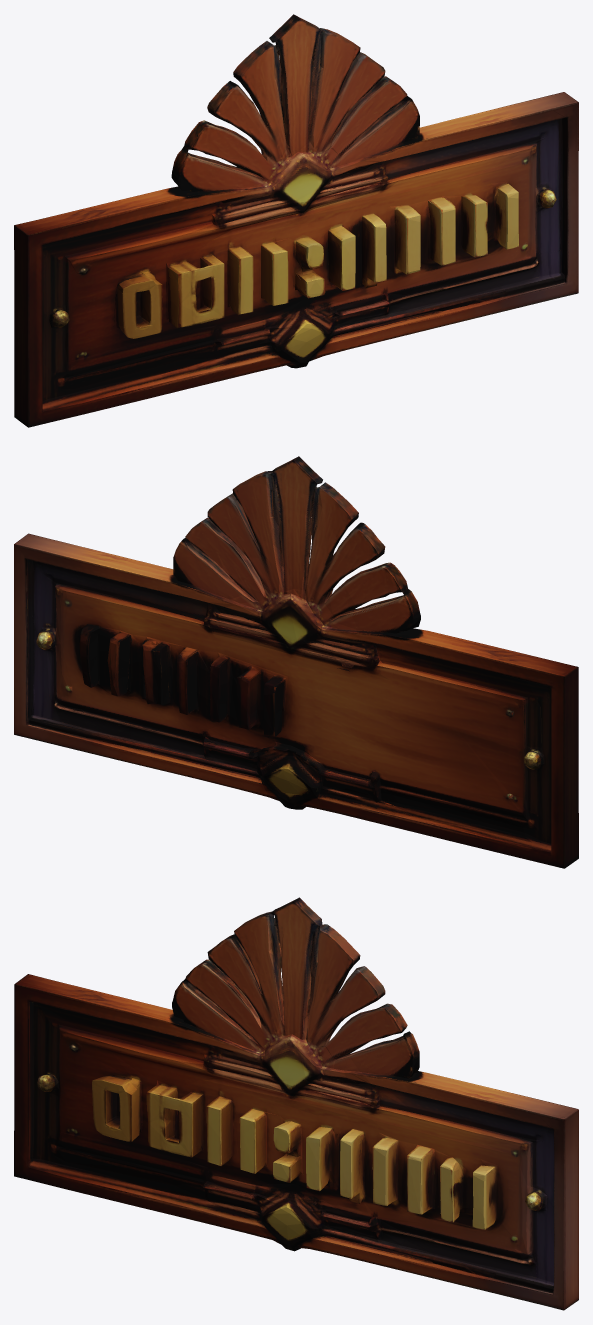
File: wooden-welcome-sign-art-deco.jpeg.glb
3 renders of one model, top to bottom at view 1: azimuth 30°, elevation 25°; view 2: azimuth 150°, elevation 25°; view 3: azimuth 330°, elevation 25°, orthographic.
Parts seen in each view (by area): view 1: world; view 2: world; view 3: world.
Boxes of the visible parts, left/top/right/bottom form: world: left=14, top=14, right=578, bottom=427; world: left=14, top=456, right=578, bottom=868; world: left=14, top=897, right=578, bottom=1310.
Size of the model in its own units: 1 by 0.6025 by 0.1124.
1 material, 1 textured.
